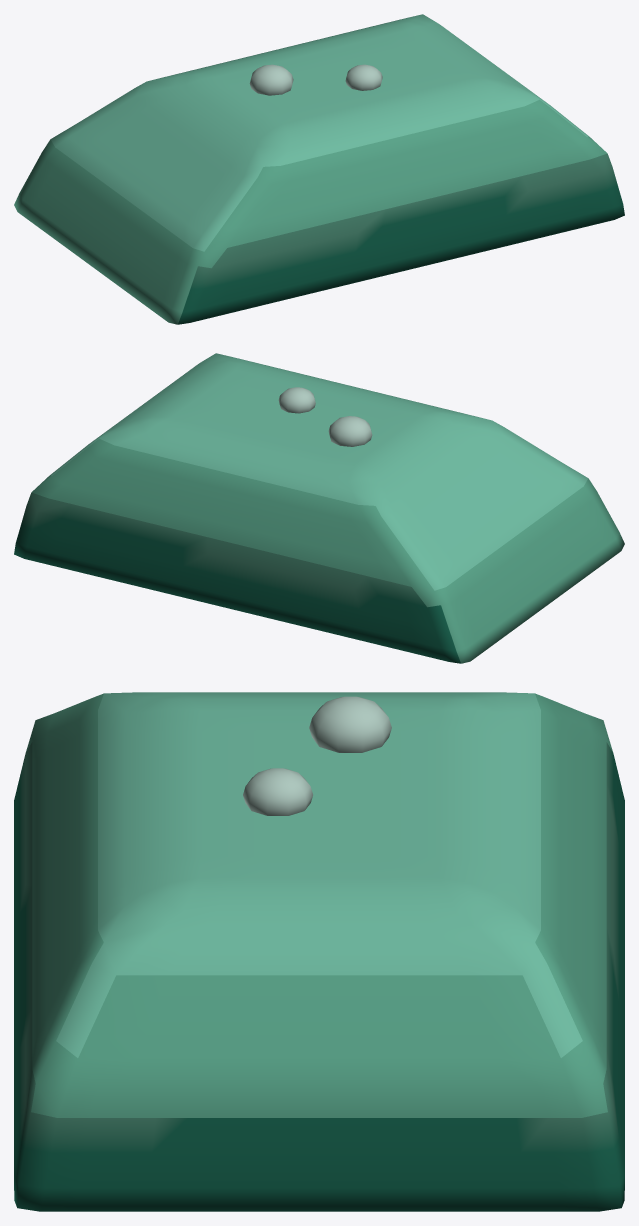
File: Bar_Leviathan.glb
3 views of the same model, one above another, from view 1: azimuth 30°, elevation 25°; view 2: azimuth 150°, elevation 25°; view 3: azimuth 270°, elevation 25° (orthographic). The views are drawn at different scales.
Visible parts, largest first — view 1: Bar_leviathan_pearl; view 2: Bar_leviathan_pearl; view 3: Bar_leviathan_pearl.
Part boxes in pixels (left/top/right/bottom): Bar_leviathan_pearl: left=14, top=14, right=624, bottom=324; Bar_leviathan_pearl: left=14, top=353, right=624, bottom=663; Bar_leviathan_pearl: left=14, top=692, right=624, bottom=1211.
Bounding box in the file's own units: 0.93 × 0.2949 × 0.5902.
